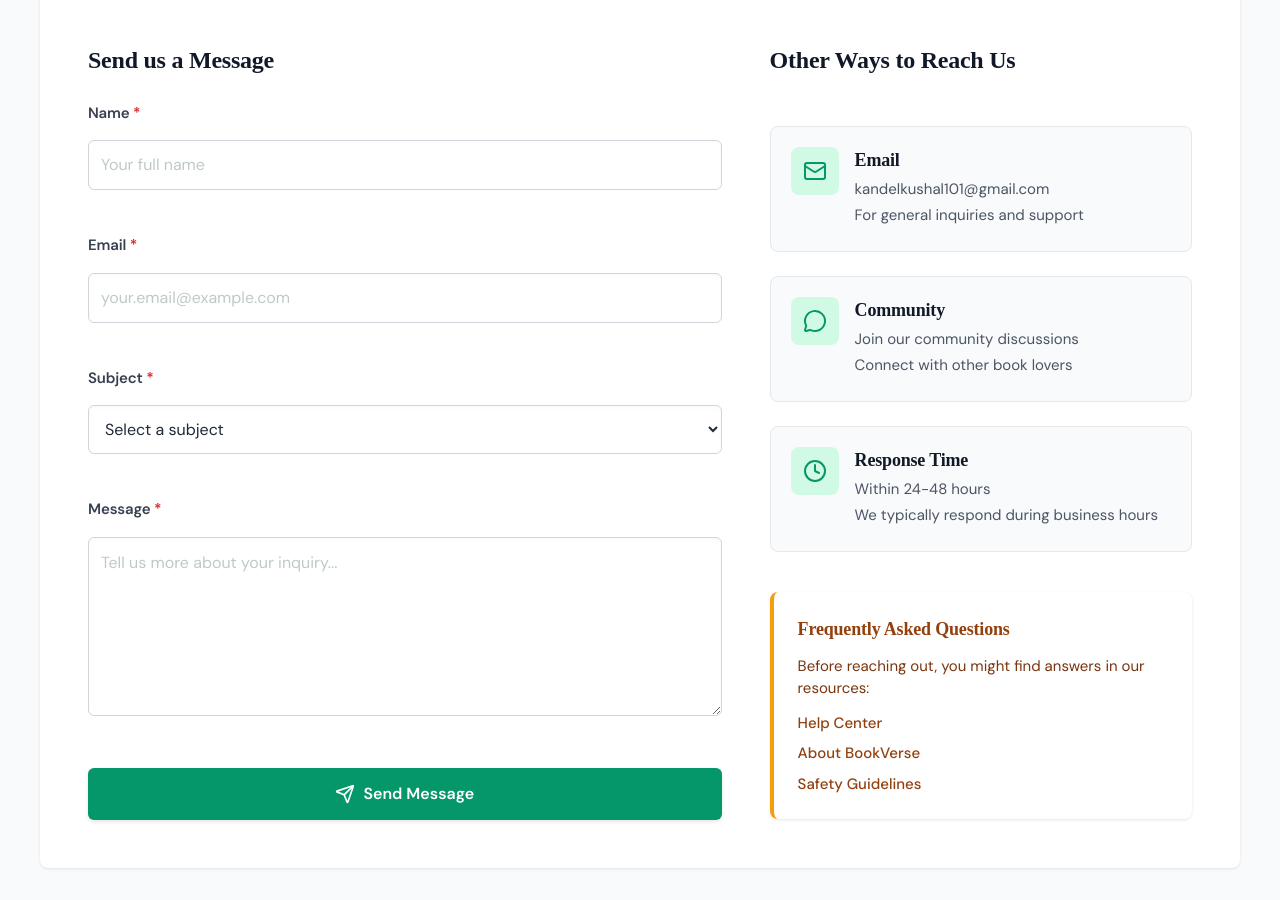
Scenario: ContactPage › validates message minimum length
(page scrolled)
Type "Short" into the text box labelled "Message *" at (405, 627), box [88,537,722,716]
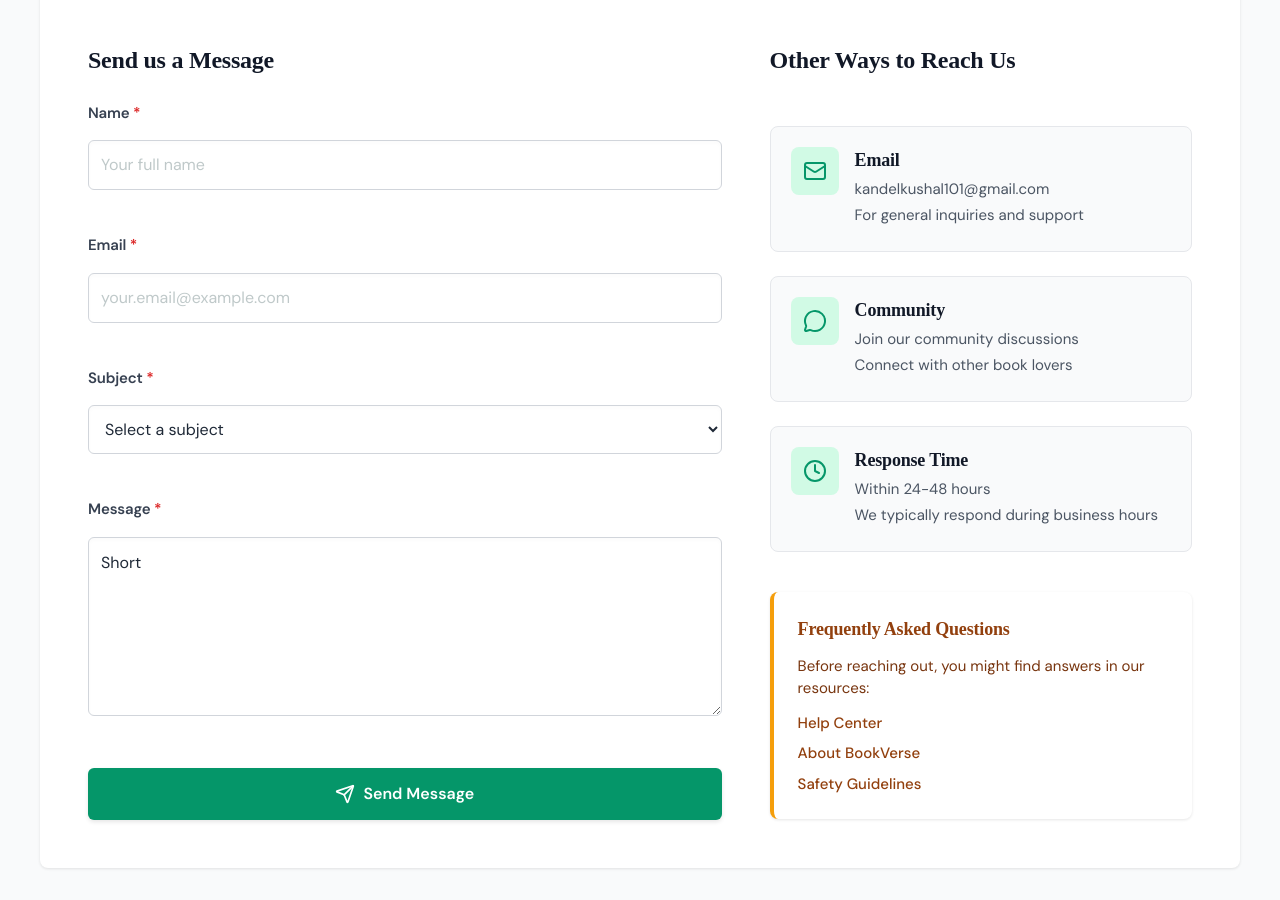
Click the button "Send Message" at (405, 794), box [88,768,722,820]
(page scrolled)
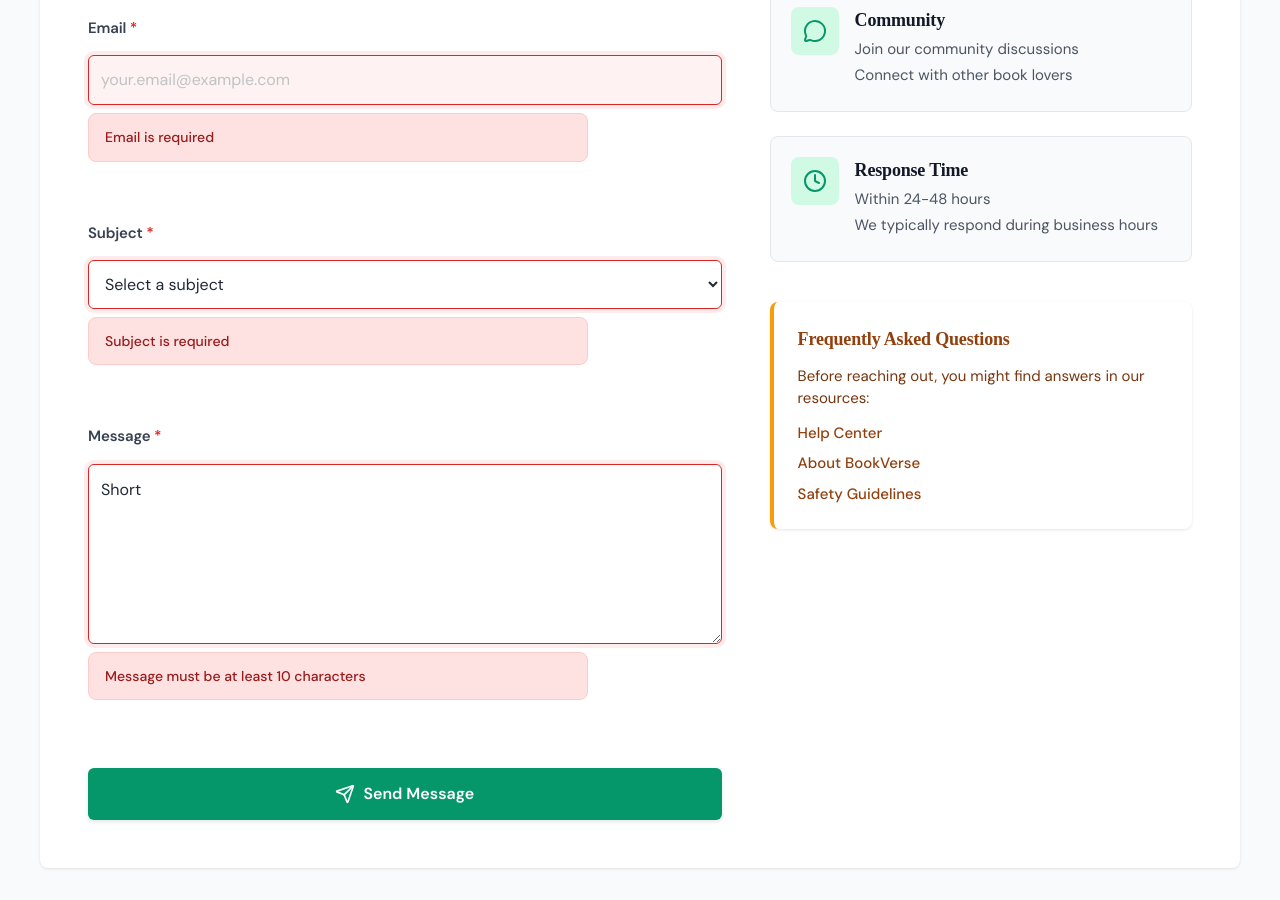
Result: the text "Message must be at least 10 characters" is shown at [88,652,588,700]
